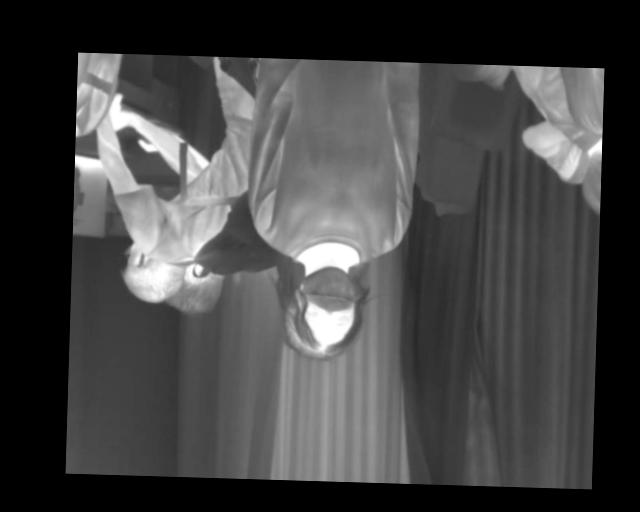face: (335, 215, 429, 327)
